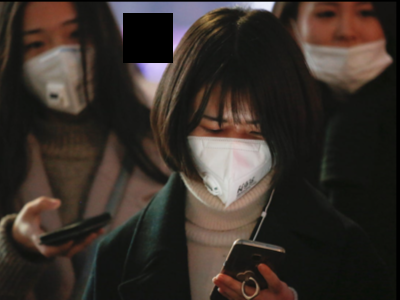mask_weared_incorrect: (294, 3, 394, 92)
with_mask: (184, 101, 279, 205), (17, 13, 99, 115)
